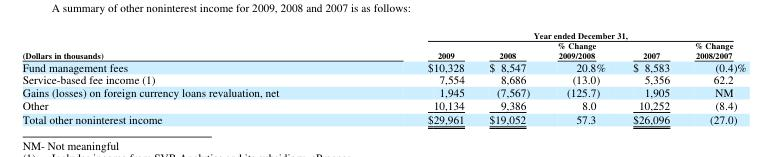table: (21, 29, 745, 126)
table column: (21, 29, 352, 126), (352, 29, 476, 126), (542, 29, 618, 126), (476, 29, 542, 126), (681, 29, 745, 126), (618, 29, 681, 126)
table column header: (21, 29, 745, 59)
table row: (21, 40, 745, 59), (21, 111, 745, 126), (21, 97, 745, 111), (21, 59, 745, 72), (21, 72, 745, 85), (21, 85, 745, 97), (21, 29, 745, 40)
table spanning cell: (21, 29, 352, 59), (352, 29, 745, 40)
